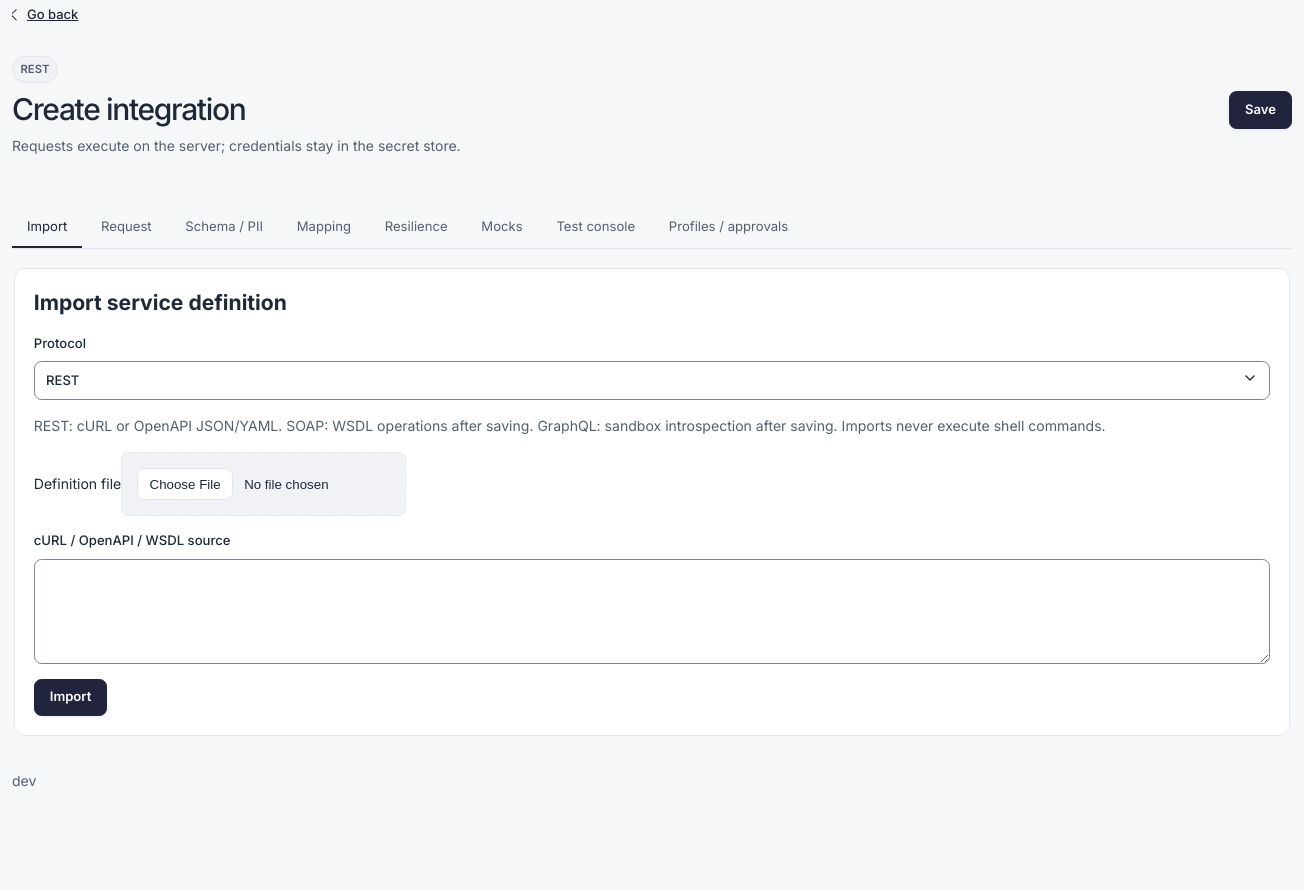
Scenario: shows field errors for injection-shaped values and blocks save
The image size is (1304, 890).
Expected: the heading "Create integration" is shown, [12,91,245,127]
Press the mouse on the tab "Request" at (126, 227), box [86,207,167,248]
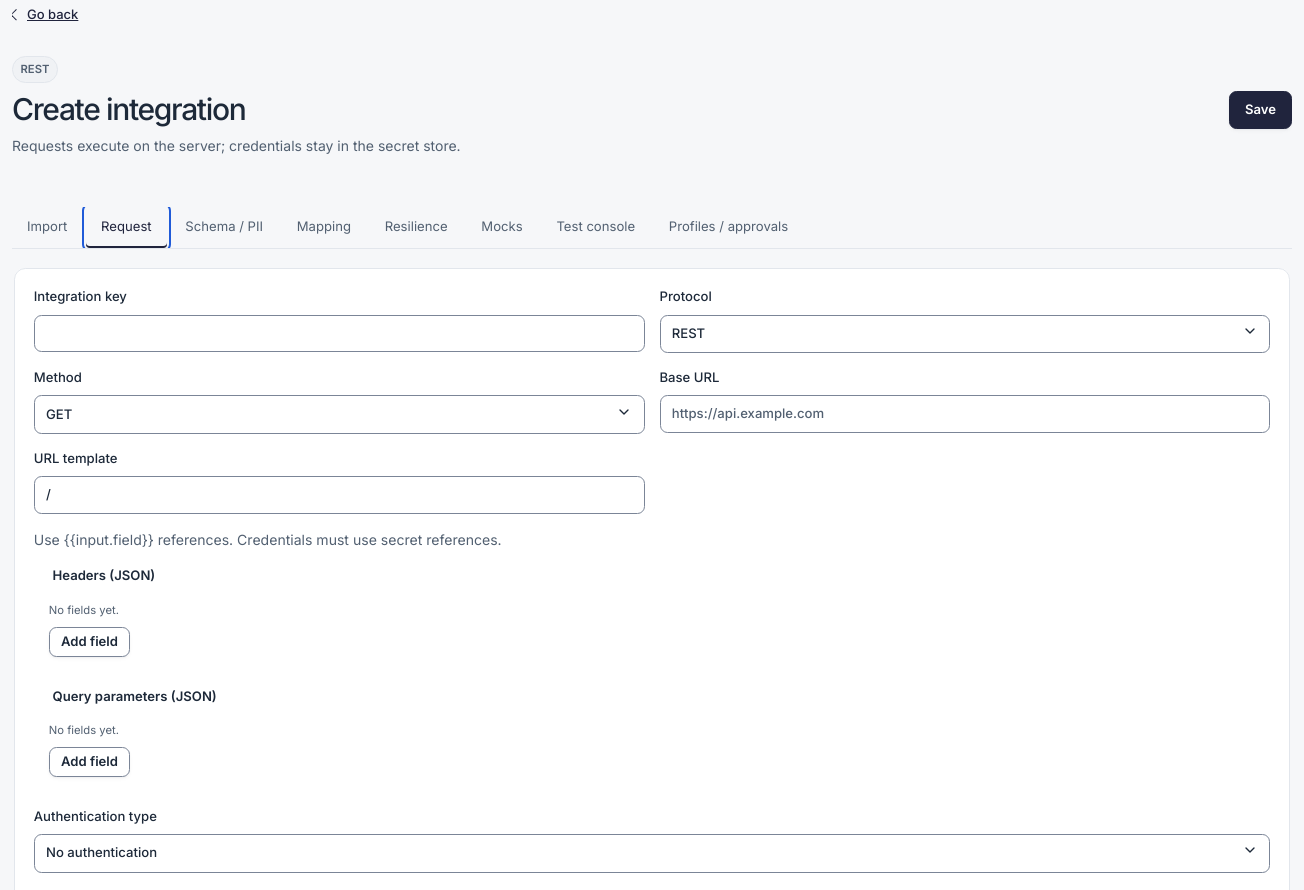
Click the dropdown named "Protocol" at (688, 333), box [660,315,1270,353]
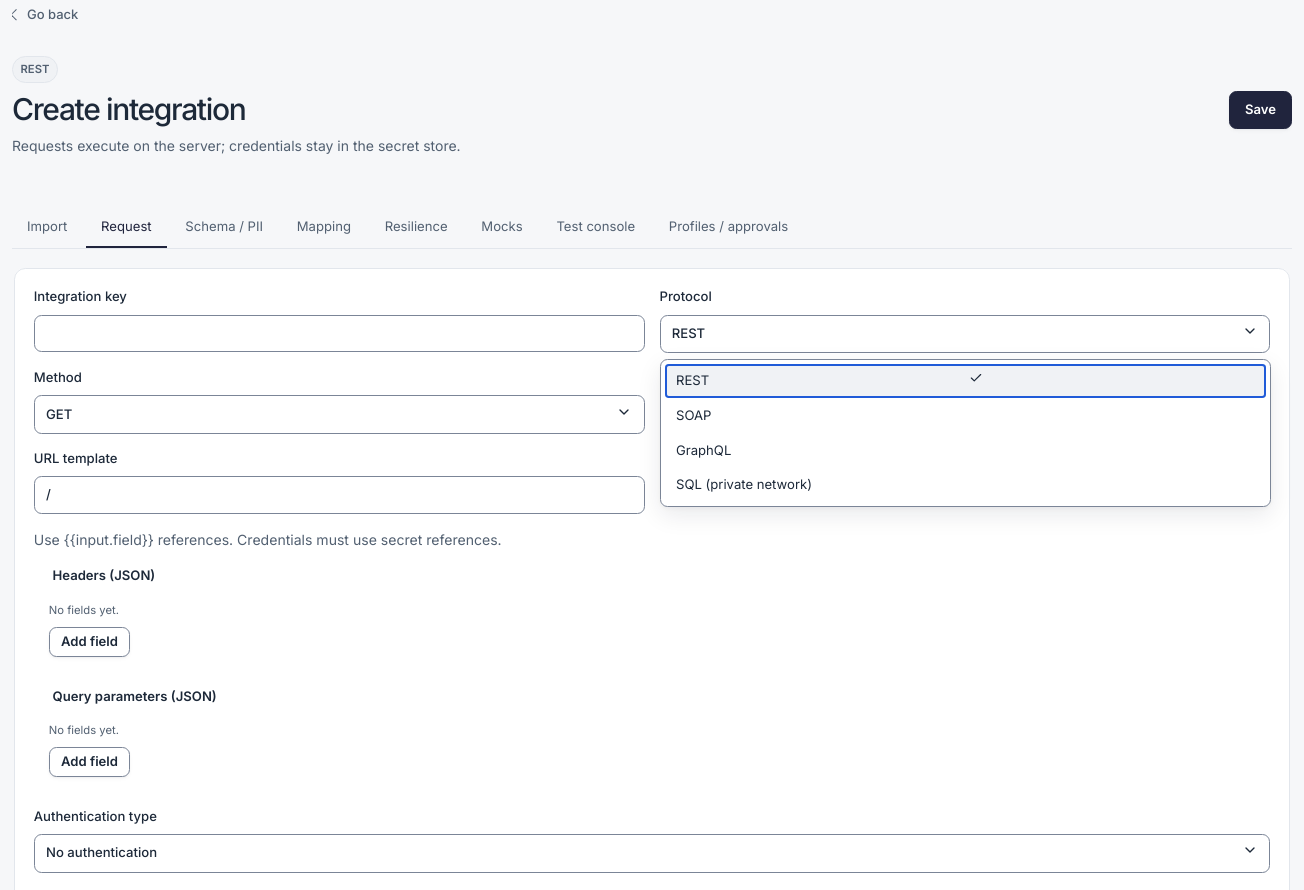
Click the option "SQL (private network)" at (744, 484), box [676,476,812,492]
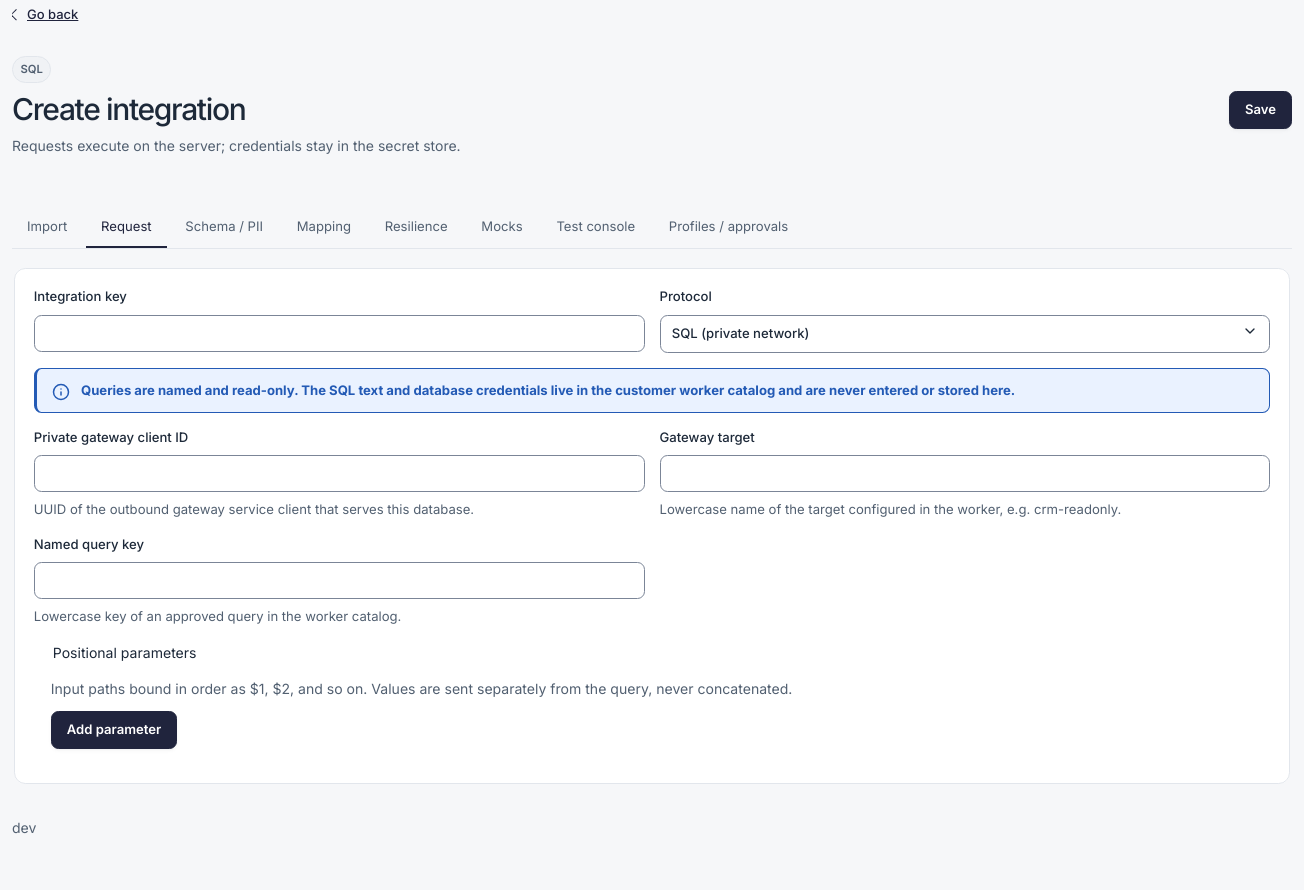
Type "sql-lookup" into the field labelled "Integration key" at (339, 333), box [34,315,645,352]
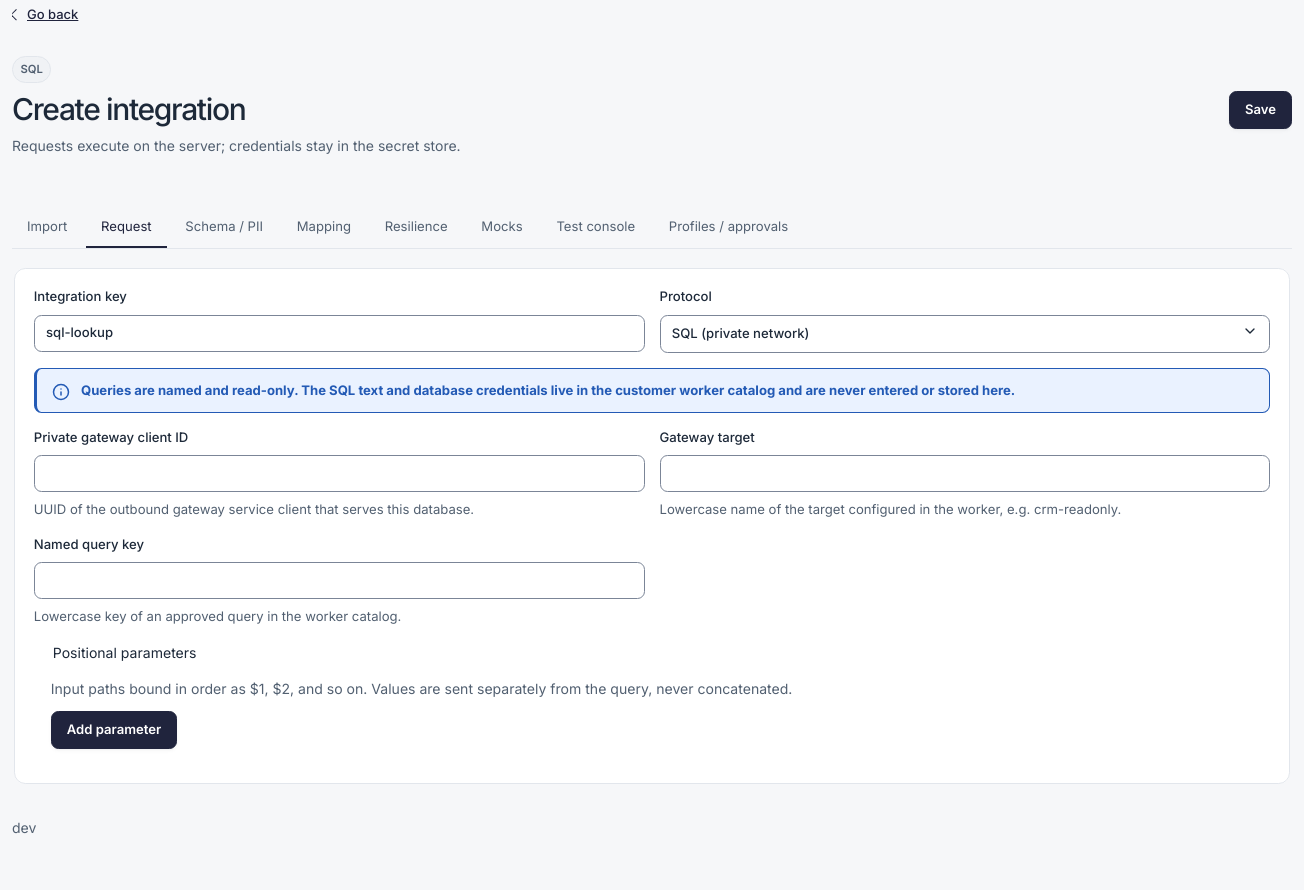
Type "x'; DROP TABLE t; --" into the field labelled "Named query key" at (339, 581), box [34,562,645,599]
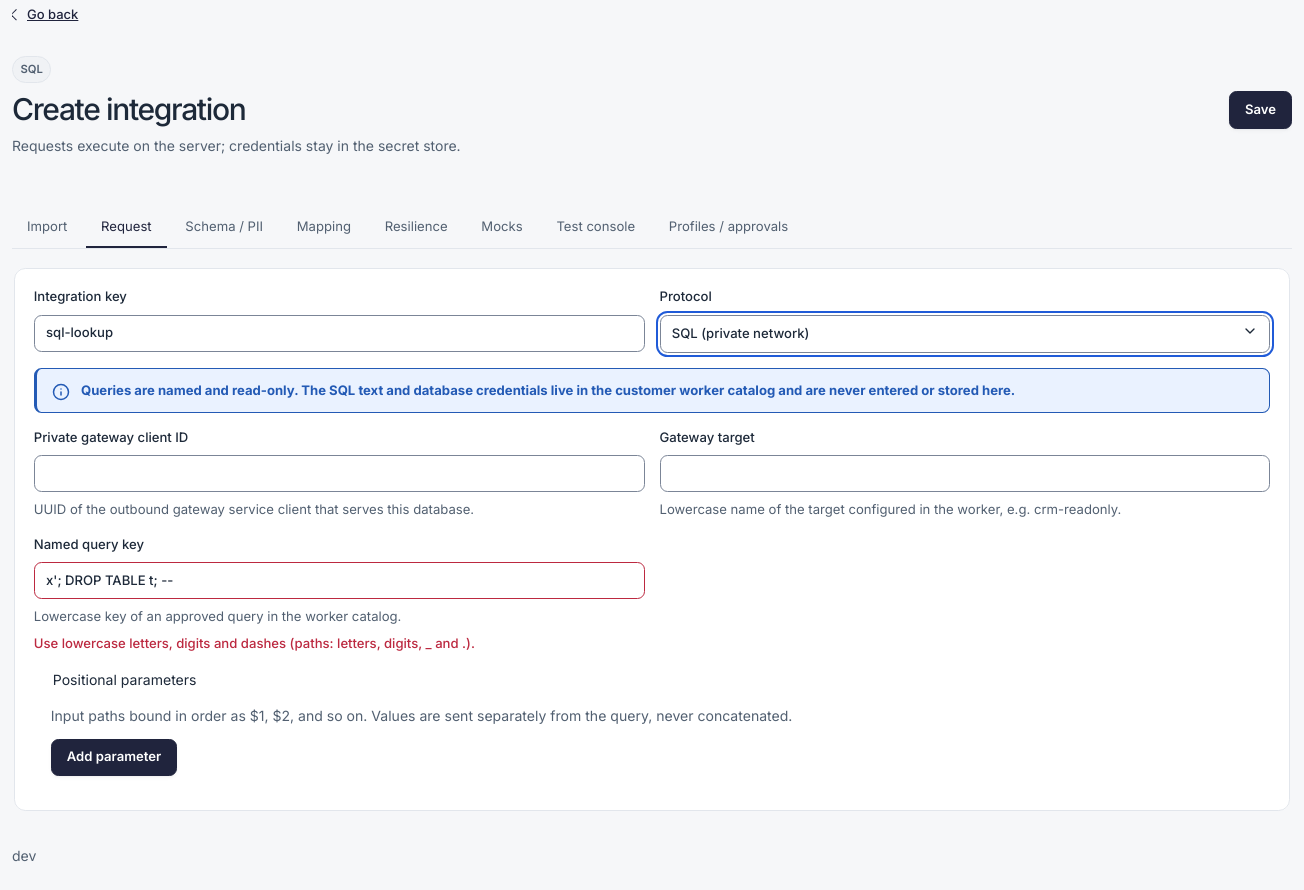
Now the text "Use lowercase letters, digits and dashes (paths: letters, digits, _ and .)." is shown, box [34,635,475,651]
Click the button "Save" at (1260, 110), box [1229,91,1292,129]
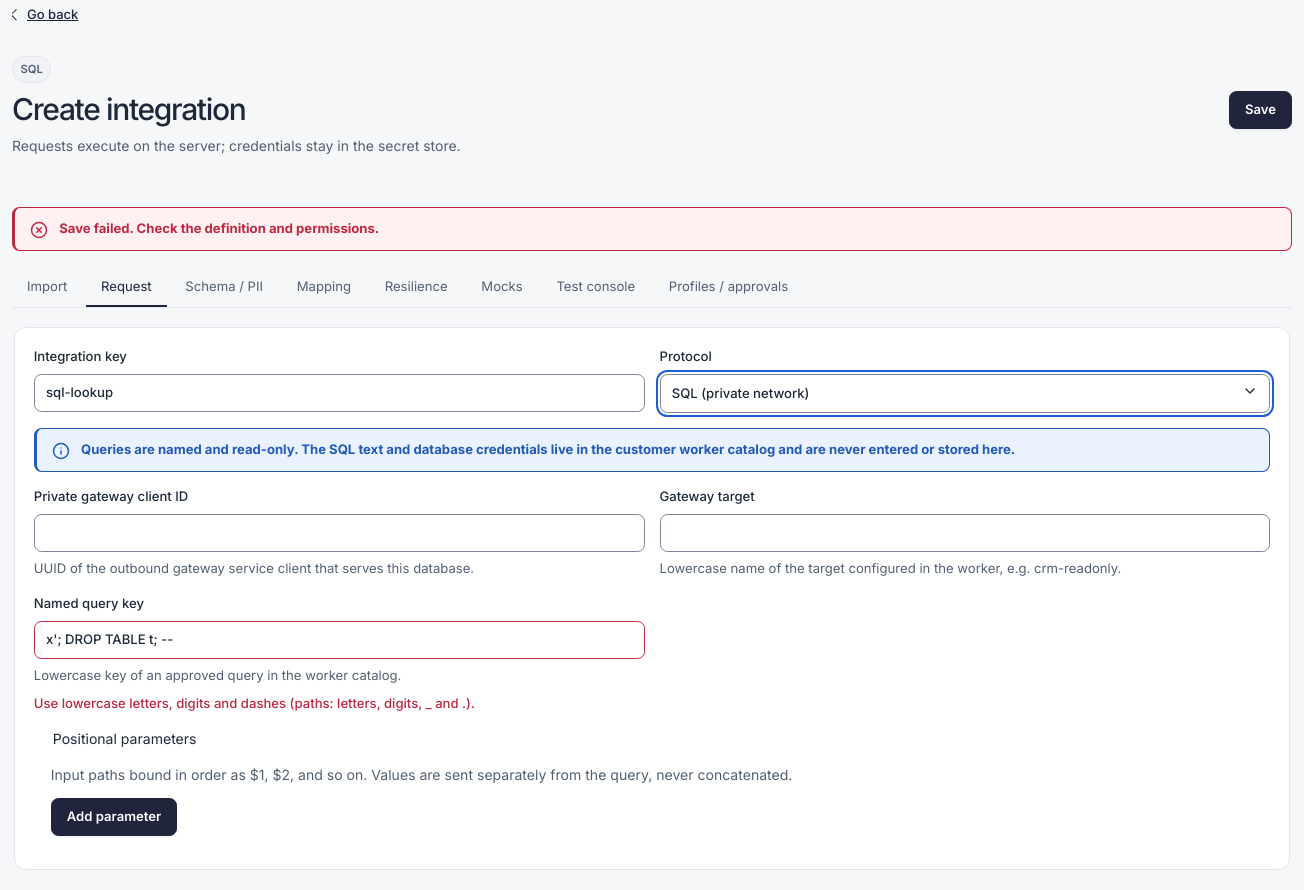
Now the text "Save failed. Check the definition and permissions." is shown, box [59,220,379,236]
